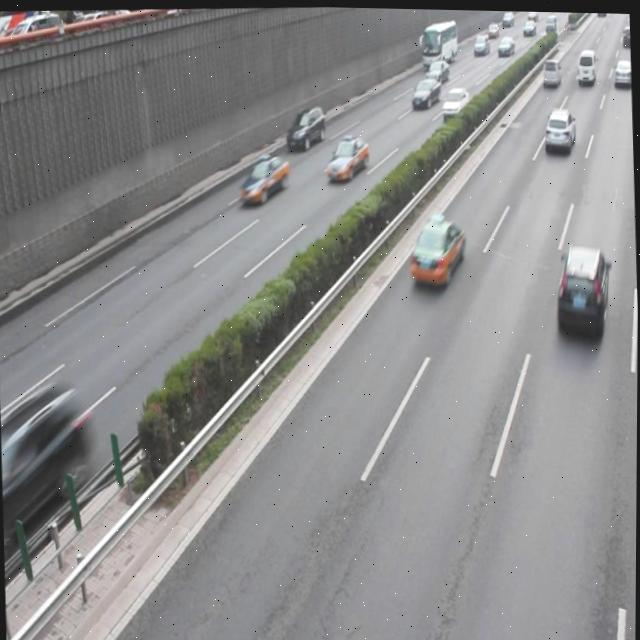car: (552, 239, 610, 339), (407, 211, 466, 288), (235, 150, 290, 202), (323, 132, 369, 180), (284, 103, 326, 149), (541, 102, 574, 155)
